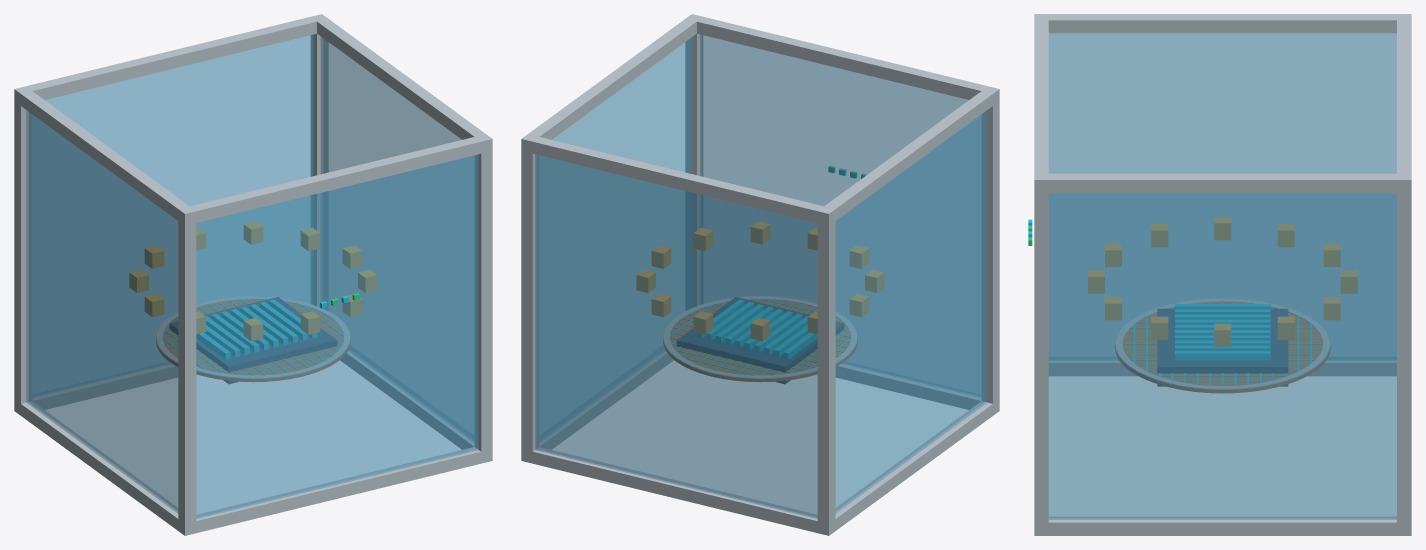
File: 56_L79_ThermalCycleQualificationBay.fbx
3 renders of one model, left to right at view 1: azimuth 30°, elevation 25°; view 2: azimuth 150°, elevation 25°; view 3: azimuth 270°, elevation 25°, orthographic. The views are drawn at different scales.
Parts seen in each view (by area): view 1: ThermalCycleQualificationBay, ThermalCycleQualificationBay_Part_0060; view 2: ThermalCycleQualificationBay, ThermalCycleQualificationBay_Part_0060; view 3: ThermalCycleQualificationBay, ThermalCycleQualificationBay_Part_0060, ThermalCycleQualificationBay_Part_0070, ThermalCycleQualificationBay_Part_0062, ThermalCycleQualificationBay_Part_0061, ThermalCycleQualificationBay_Part_0063, ThermalCycleQualificationBay_Part_0067, ThermalCycleQualificationBay_Part_0064, ThermalCycleQualificationBay_Part_0069.
Part boxes in pixels (x1,y1,x2,y2): ThermalCycleQualificationBay: [14, 14, 492, 535]; ThermalCycleQualificationBay_Part_0060: [170, 297, 336, 383]; ThermalCycleQualificationBay: [521, 14, 999, 535]; ThermalCycleQualificationBay_Part_0060: [677, 297, 843, 383]; ThermalCycleQualificationBay: [1028, 14, 1411, 535]; ThermalCycleQualificationBay_Part_0060: [1157, 309, 1287, 386]; ThermalCycleQualificationBay_Part_0070: [1175, 351, 1270, 360]; ThermalCycleQualificationBay_Part_0062: [1175, 309, 1270, 314]; ThermalCycleQualificationBay_Part_0061: [1175, 304, 1270, 308]; ThermalCycleQualificationBay_Part_0063: [1175, 315, 1270, 319]; ThermalCycleQualificationBay_Part_0067: [1175, 335, 1270, 340]; ThermalCycleQualificationBay_Part_0064: [1175, 320, 1270, 324]; ThermalCycleQualificationBay_Part_0069: [1175, 346, 1270, 350].
Size of the model in its own units: 255 by 255 by 249.
